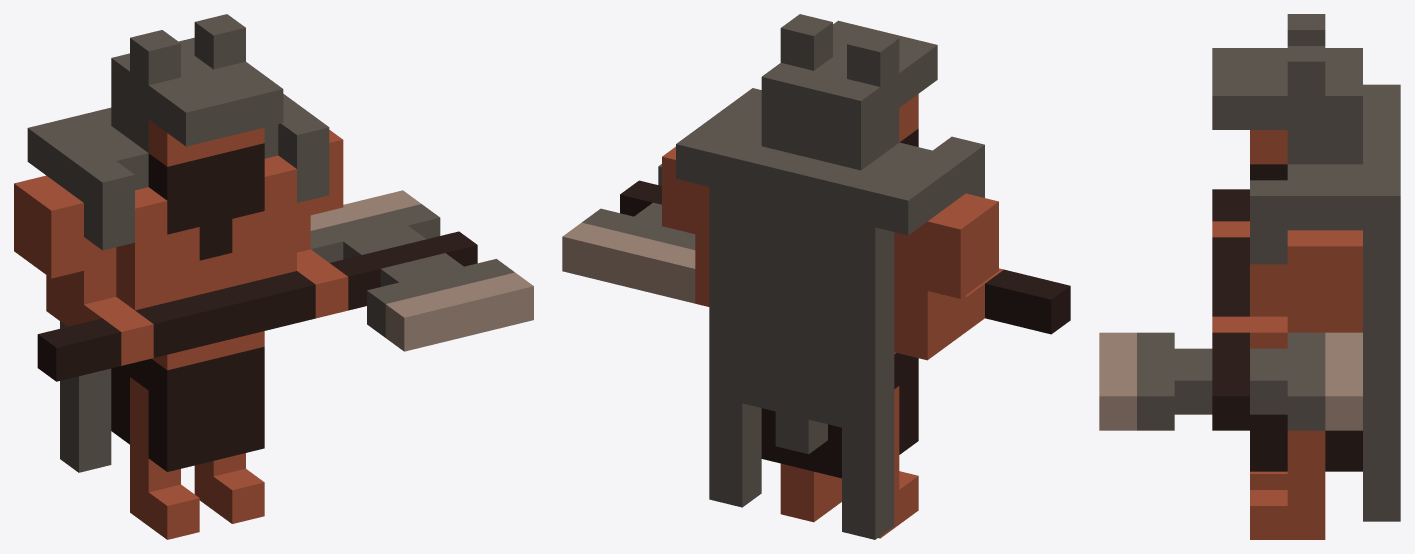
Rendered from barbarian.obj.
3 renders of one model, left to right at view 1: azimuth 30°, elevation 25°; view 2: azimuth 150°, elevation 25°; view 3: azimuth 270°, elevation 25°, orthographic. The views are drawn at different scales.
Bounding box in the file's own units: 1.3 × 1.4 × 0.8.
1 material, 1 textured.
